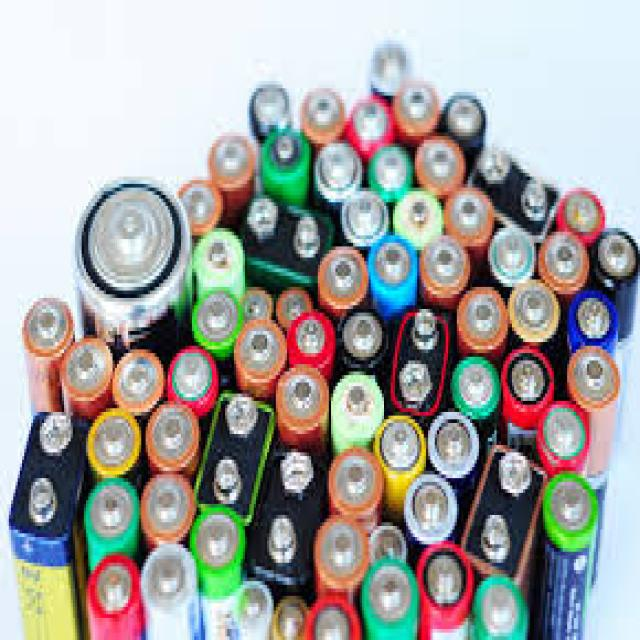battery: (0, 27, 640, 640)
